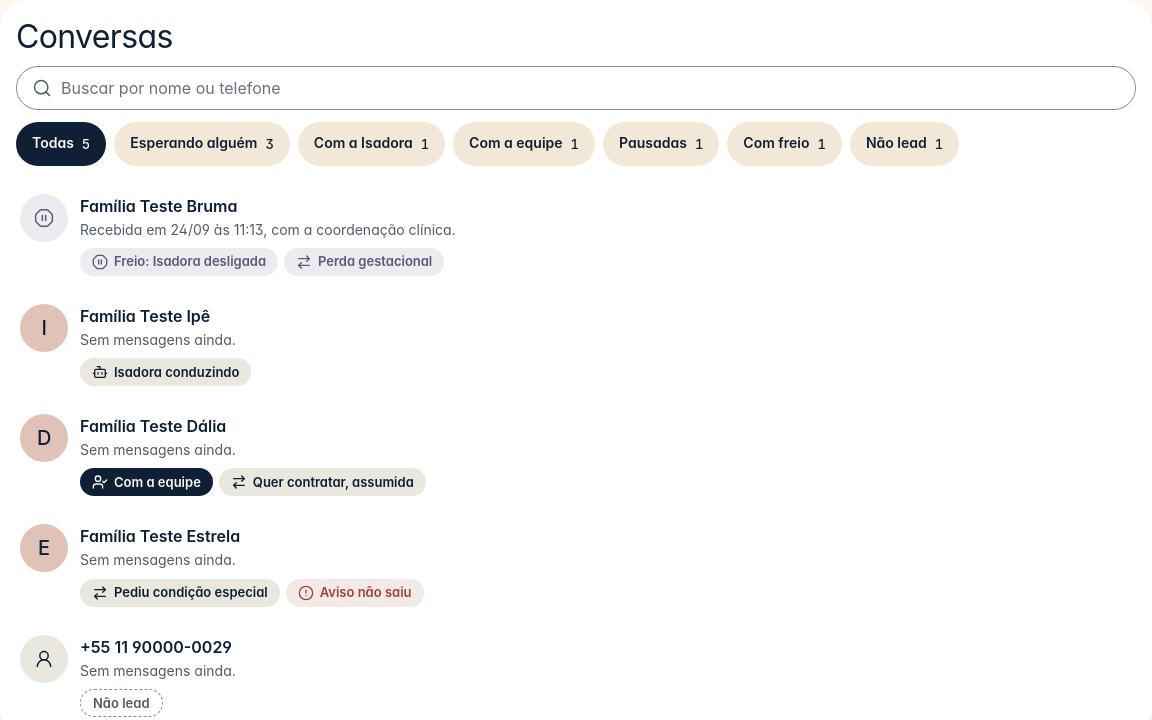
ListaConversas com as transferências juntas (pedido do dono em 30/09) › 'Esperando alguém' é a antiga fila: na ordem da fila, com o pedido sem conversa e sem as já assumidas
Click the button "Esperando alguém 3". click: [202, 144]
box: [114,122,290,166]
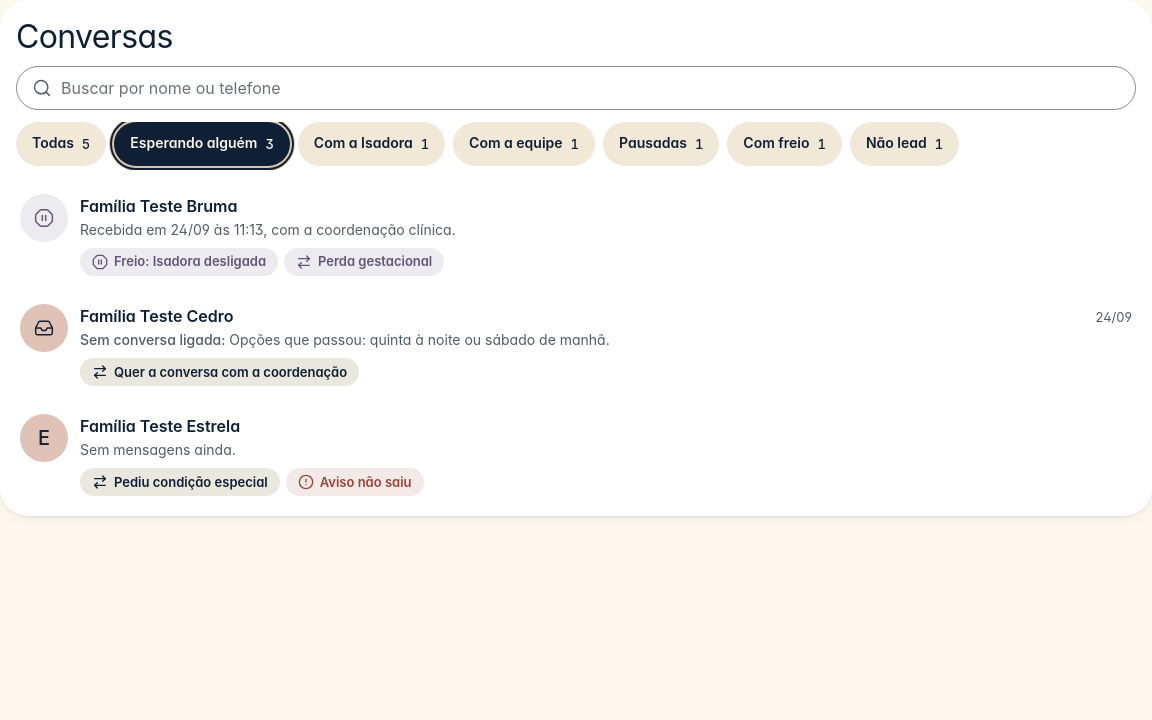
Expected: the text "Aviso não saiu" is shown, [286,468,424,496]
Expected: the link "Família Teste Dália" is gone
